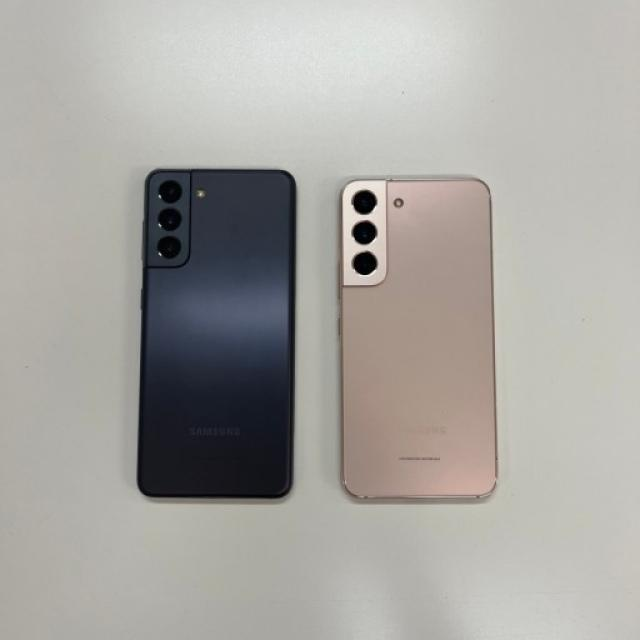phone: (139, 158, 298, 508), (339, 170, 503, 504)
